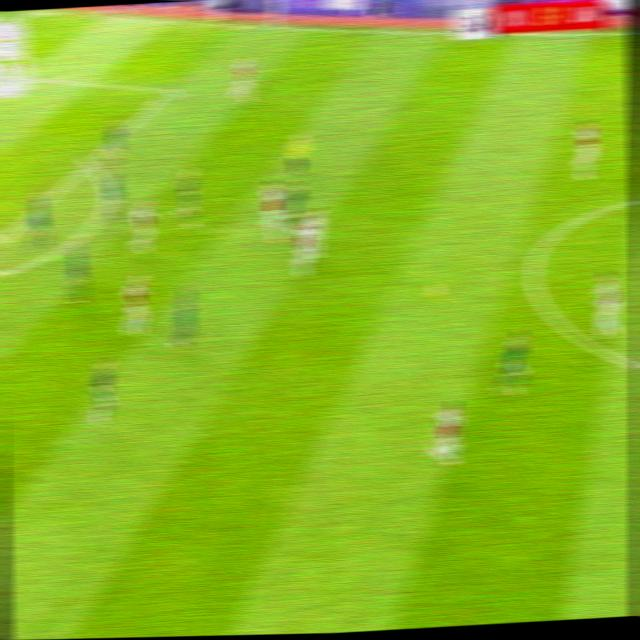bigarea_top_inner: (157, 78, 182, 100)
corner: (23, 8, 52, 18)
top_arc_area_intersection: (76, 151, 101, 175)
